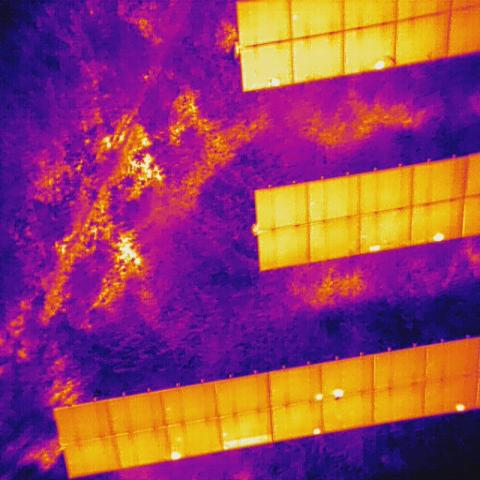fault: (220, 434, 272, 452), (168, 448, 184, 464), (330, 386, 346, 398), (453, 399, 466, 413), (430, 232, 448, 242), (270, 74, 280, 88), (374, 57, 384, 71), (367, 243, 381, 253), (314, 390, 322, 402), (312, 426, 320, 436)
